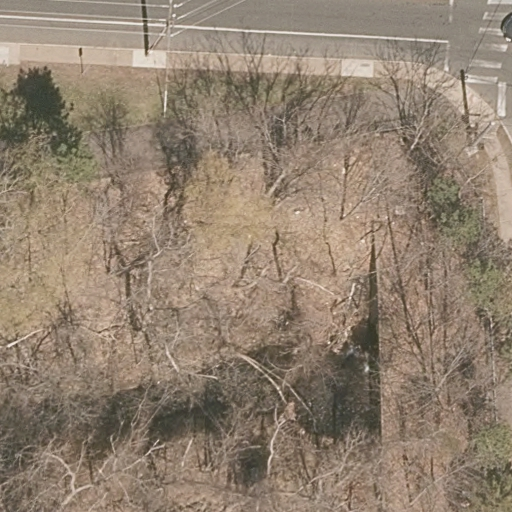DT: (149, 1, 180, 56), (465, 112, 498, 155)
